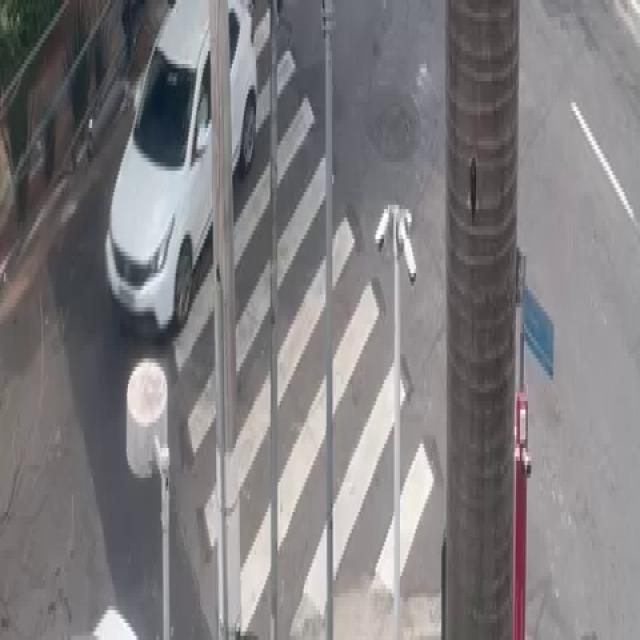car: (99, 11, 266, 344)
